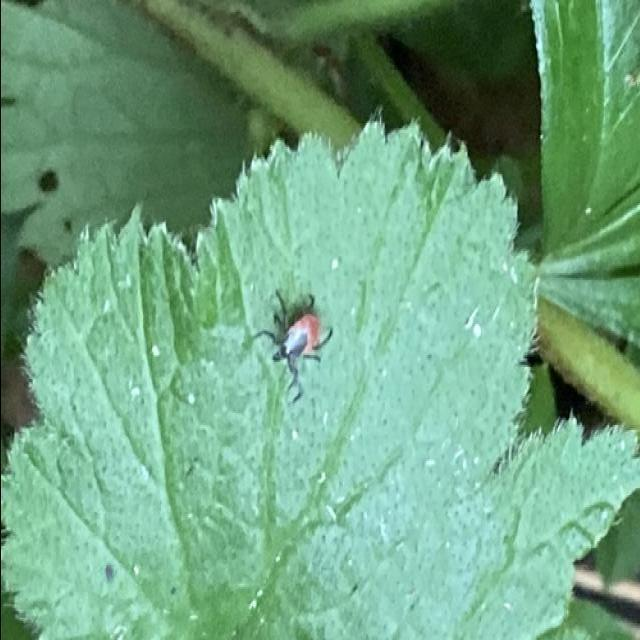Ixodes Ricinus-F: (255, 280, 332, 404)
